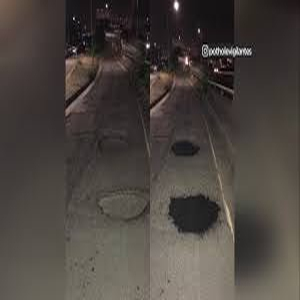pothole: (169, 191, 222, 239), (96, 181, 149, 224), (99, 130, 131, 163), (169, 140, 198, 158)
